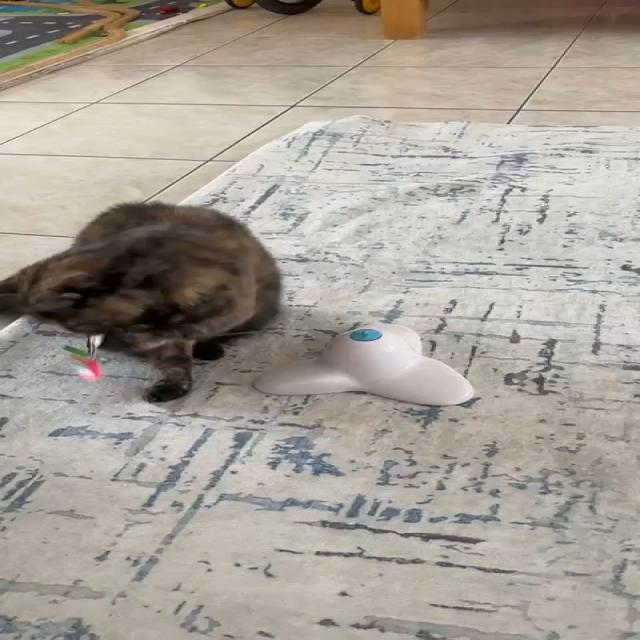authorized: (0, 198, 281, 403)
